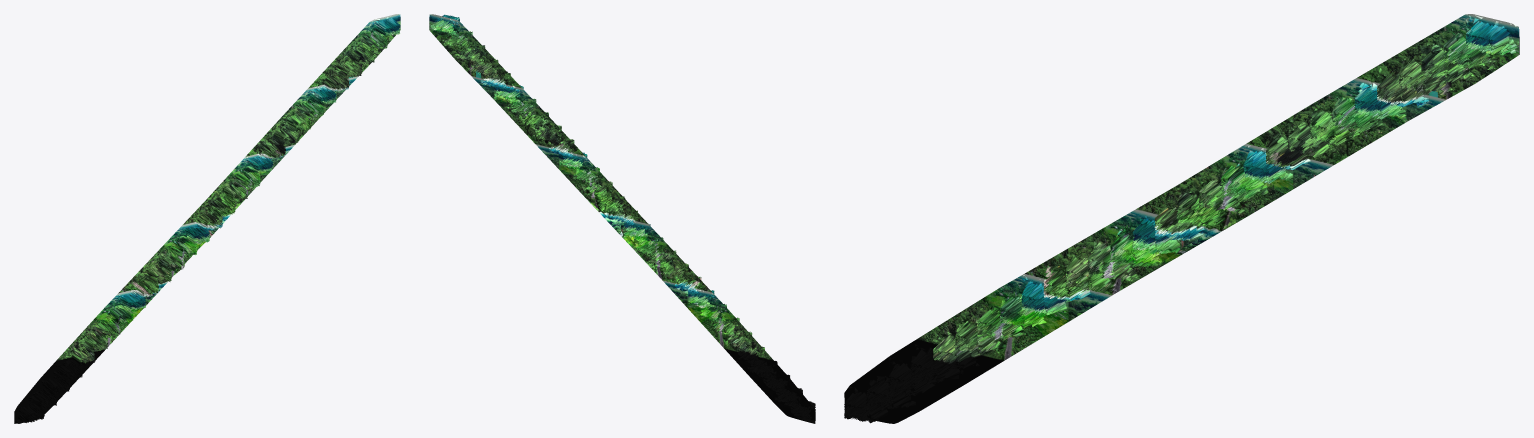
File: model_georeferenced.obj
3 renders of one model, left to right at view 1: azimuth 30°, elevation 25°; view 2: azimuth 150°, elevation 25°; view 3: azimuth 330°, elevation 25°, orthographic. The views are drawn at different scales.
Size of the model in its own units: 76.07 by 59.56 by 3.5.
Materials: 1 (1 with a texture image).
